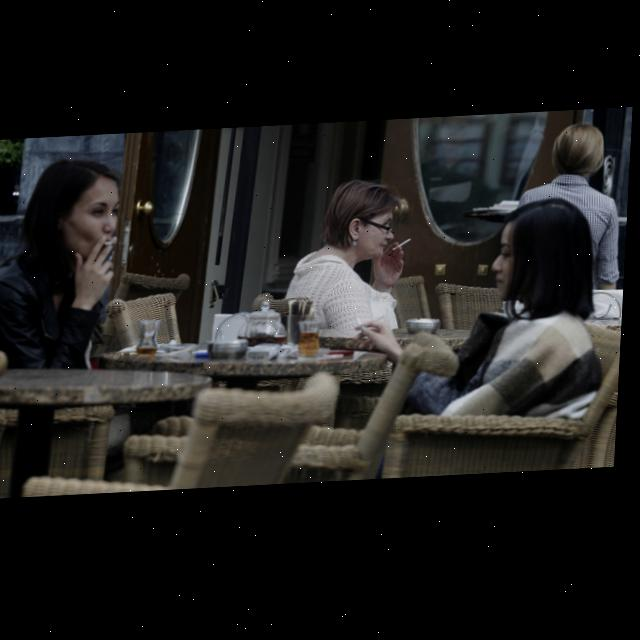cigarette: (395, 243, 413, 255), (358, 321, 372, 336), (106, 243, 117, 247)
